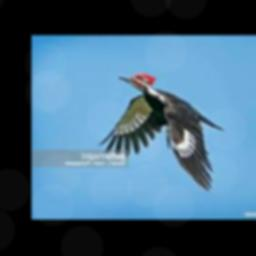Woodpecker: (98, 73, 224, 191)
